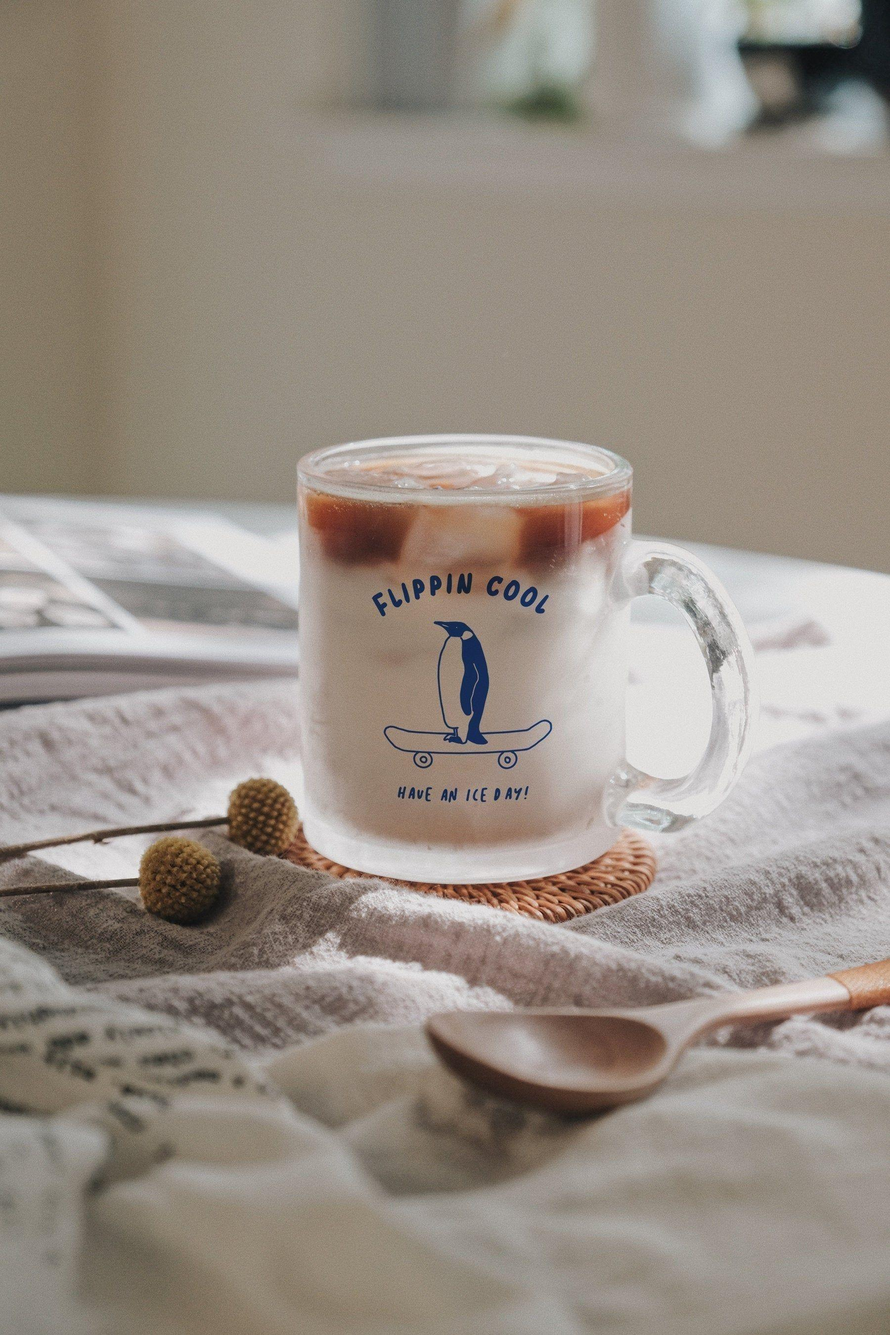glass-mug: (282, 425, 761, 889)
